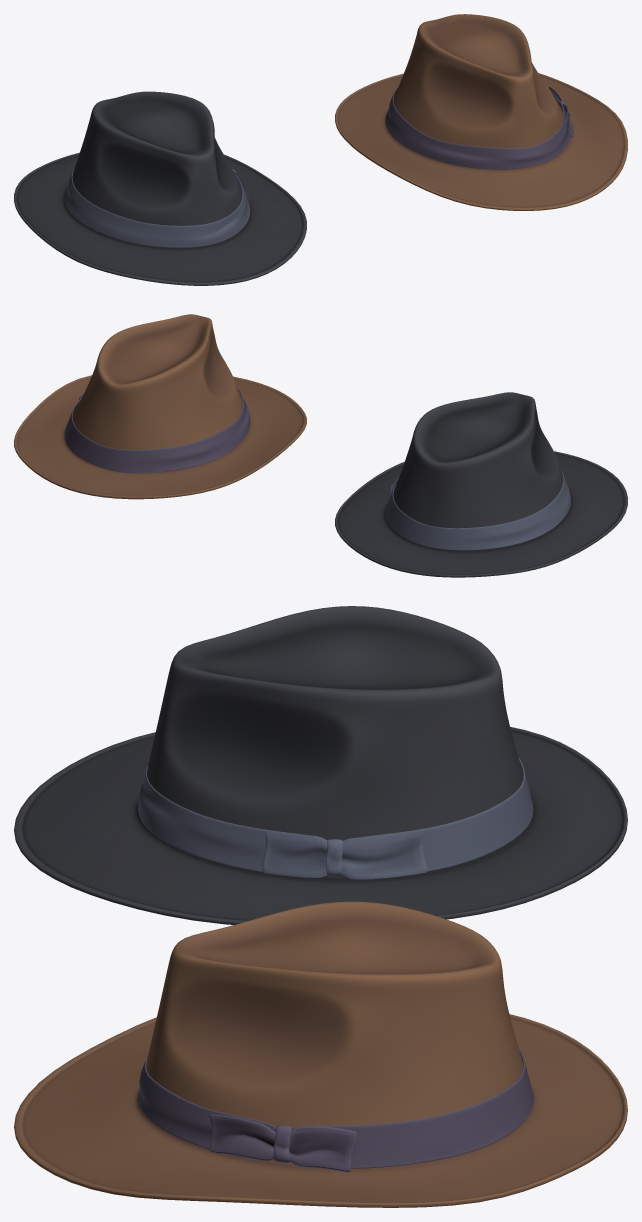
3 renders of one model, top to bottom at view 1: azimuth 30°, elevation 25°; view 2: azimuth 150°, elevation 25°; view 3: azimuth 270°, elevation 25°, orthographic. The views are drawn at different scales.
Visible parts, largest first — view 1: hat1_8, hat4_4, Circle.012_6, Circle.009_1; view 2: hat1_8, hat4_4, Circle.009_1, Circle.012_6; view 3: hat1_8, hat4_4, Circle.009_1, Circle.012_6, Circle.003_5, Circle.013_2.
Part boxes in pixels (x1=…): hat1_8: x1=14, y1=91, x2=306, y2=285; hat4_4: x1=335, y1=14, x2=627, y2=210; Circle.012_6: x1=64, y1=168, x2=250, y2=247; Circle.009_1: x1=385, y1=85, x2=570, y2=169; hat1_8: x1=335, y1=392, x2=627, y2=577; hat4_4: x1=14, y1=314, x2=306, y2=499; Circle.009_1: x1=65, y1=387, x2=250, y2=473; Circle.012_6: x1=385, y1=469, x2=571, y2=550; hat1_8: x1=14, y1=606, x2=627, y2=924; hat4_4: x1=14, y1=901, x2=627, y2=1207; Circle.009_1: x1=138, y1=1047, x2=533, y2=1168; Circle.012_6: x1=138, y1=757, x2=533, y2=872; Circle.003_5: x1=262, y1=831, x2=427, y2=879; Circle.013_2: x1=209, y1=1114, x2=356, y2=1172.
Size of the model in its own units: 6.89 by 1.23 by 3.58.
Materials: 2 (2 with a texture image).
